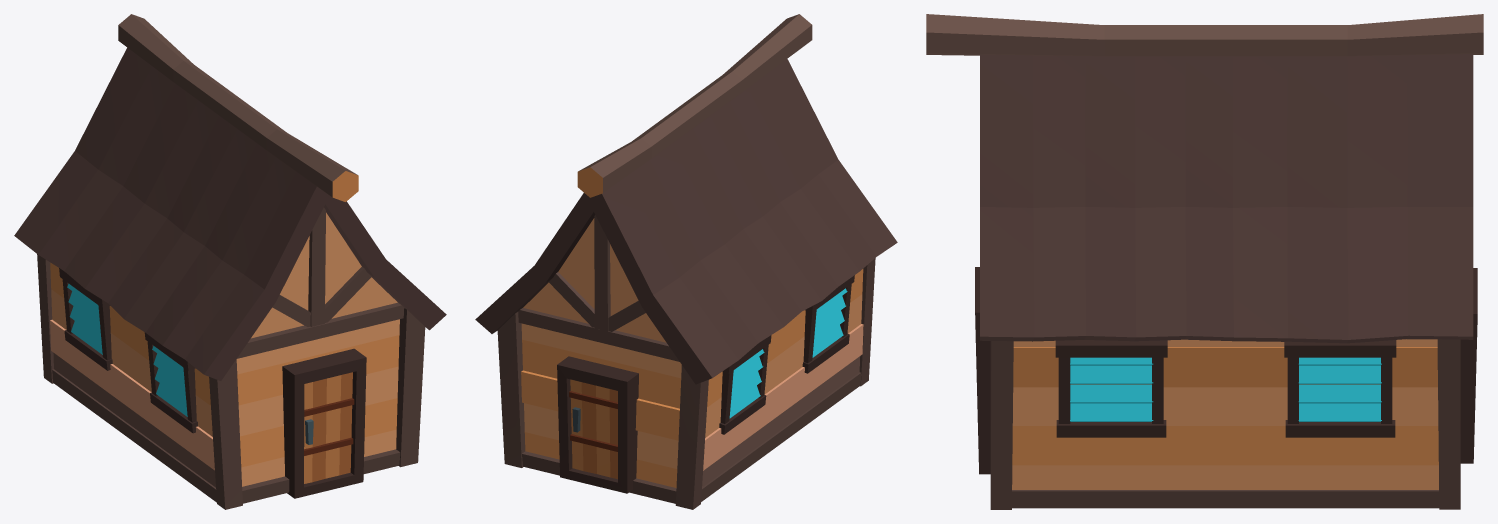
Rendered from House_2-1.fbx.
3 renders of one model, left to right at view 1: azimuth 30°, elevation 25°; view 2: azimuth 150°, elevation 25°; view 3: azimuth 270°, elevation 25°, orthographic. The views are drawn at different scales.
Visible parts, largest first — view 1: 1; view 2: 1; view 3: 1.
Part boxes in pixels (x1,y1,x2,y2): 1: (14, 14, 446, 509); 1: (475, 14, 897, 509); 1: (926, 14, 1483, 509).
Bounding box in the file's own units: 414 × 539 × 624.
